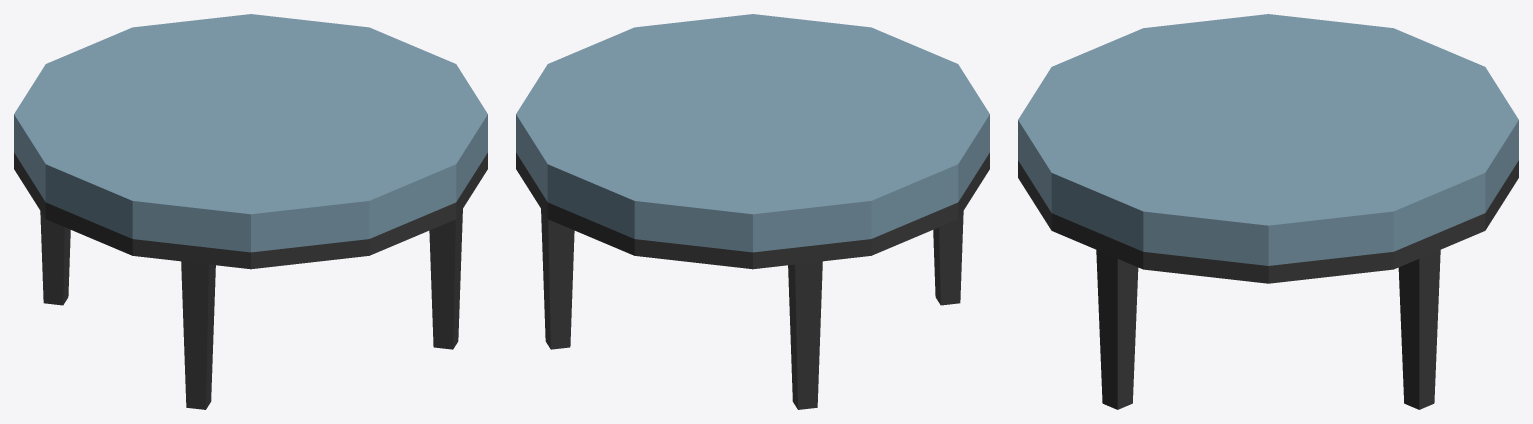
The model's file is Table_1.fbx.
3 views of the same model, side by side, from view 1: azimuth 30°, elevation 25°; view 2: azimuth 150°, elevation 25°; view 3: azimuth 270°, elevation 25° (orthographic). The views are drawn at different scales.
Visible parts, largest first — view 1: Table_1; view 2: Table_1; view 3: Table_1.
Boxes of the visible parts, box(x1,y1,x2,y2) form: Table_1: box(14, 14, 487, 409); Table_1: box(516, 14, 989, 409); Table_1: box(1018, 14, 1518, 409).
Bounding box in the file's own units: 114 × 114 × 55.17.
